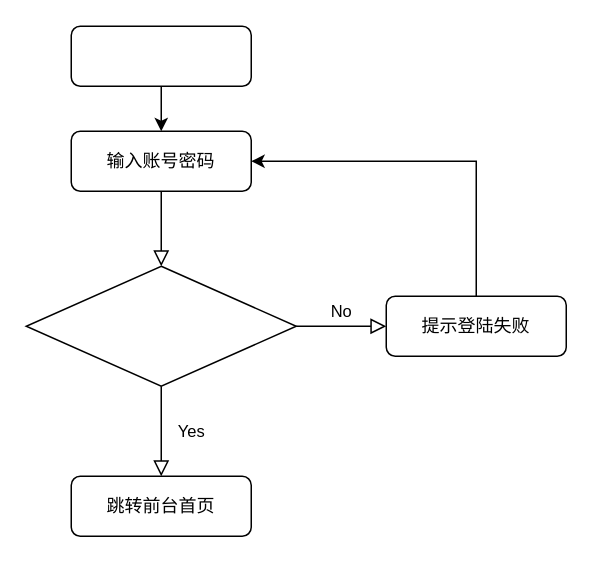
Image size: 593x563. Some labels were removed from this diagram. Each missing label, with the centre of its shape:
用户登录: point 160,55
账号密码是否正确？: point 160,325
